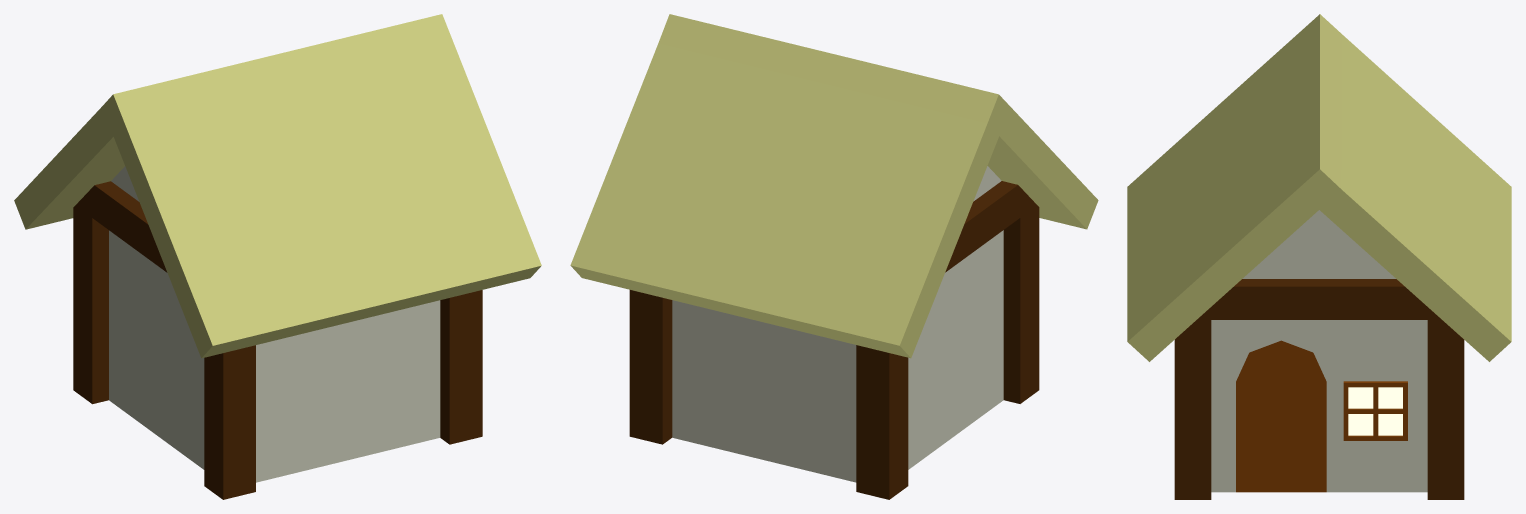
Rendered from House.fbx.
3 views of the same model, side by side, from view 1: azimuth 30°, elevation 25°; view 2: azimuth 150°, elevation 25°; view 3: azimuth 270°, elevation 25° (orthographic). The views are drawn at different scales.
Parts seen in each view (by area): view 1: house; view 2: house; view 3: house.
Part boxes in pixels (bbox=[...]): house: bbox=[14, 14, 541, 499]; house: bbox=[570, 14, 1098, 499]; house: bbox=[1127, 14, 1511, 499].
Size of the model in its own units: 436 by 455 by 456.
